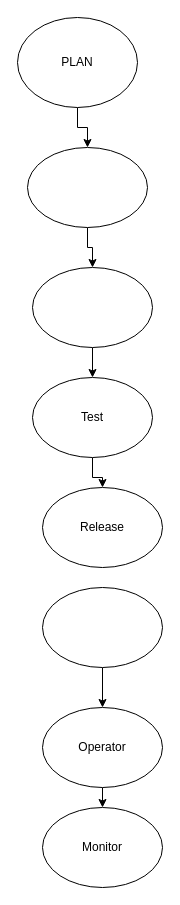
Image size: 180x905. Some labels were removed from this diagram. Each missing label, with the box of its shape:
Built: (32, 266, 152, 348)
Deploy: (42, 586, 162, 668)
Develop: (26, 146, 148, 228)
